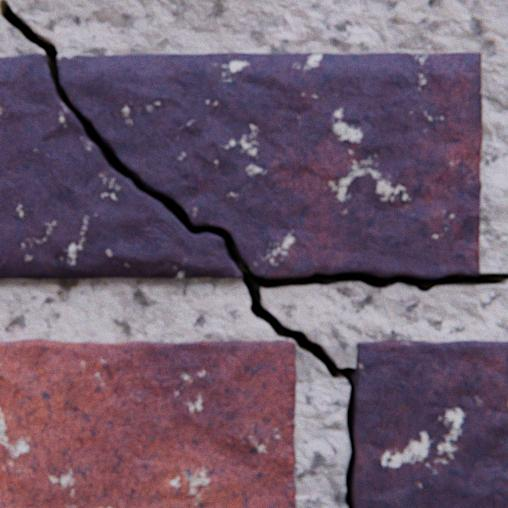brick: (0, 339, 296, 507), (352, 339, 507, 507)
broken_brick: (57, 53, 480, 278), (0, 54, 241, 278)
crack: (0, 0, 507, 507)
